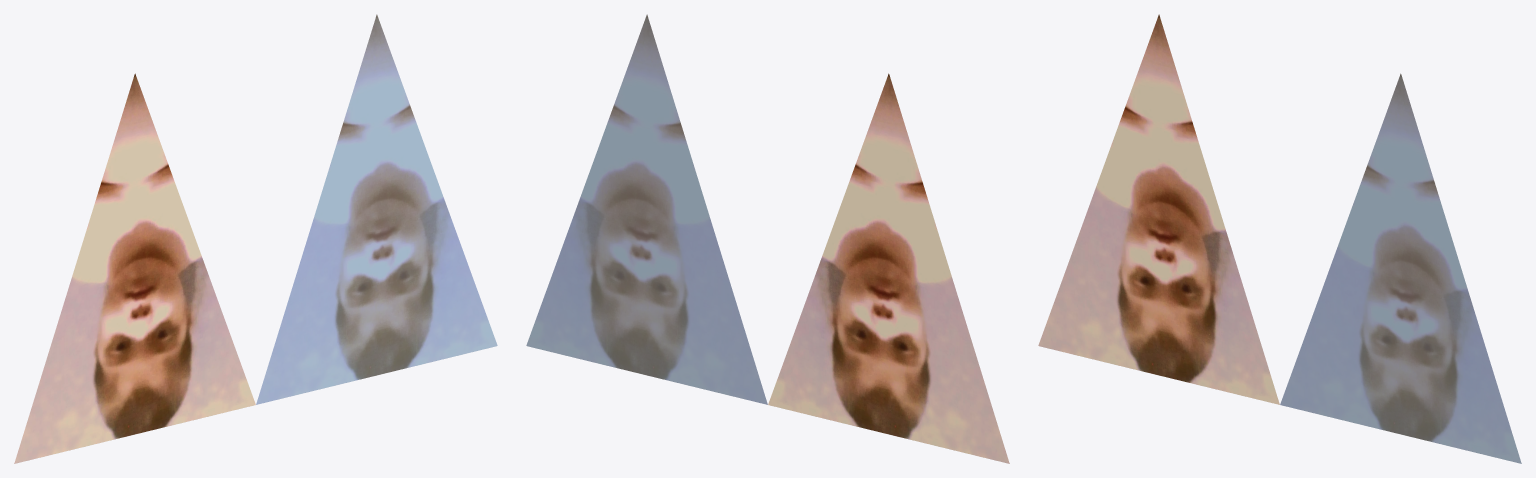
Rendered from sample.gltf.
3 renders of one model, left to right at view 1: azimuth 30°, elevation 25°; view 2: azimuth 150°, elevation 25°; view 3: azimuth 330°, elevation 25°, orthographic.
Parts seen in each view (by area): view 1: two_material_triangles; view 2: two_material_triangles; view 3: two_material_triangles.
Part boxes in pixels (box(x1,y1,x2,y2)): two_material_triangles: box(14, 14, 497, 463); two_material_triangles: box(526, 14, 1009, 463); two_material_triangles: box(1038, 14, 1521, 463).
Size of the model in its own units: 1.4 by 1 by 0.
2 materials, 2 textured.
